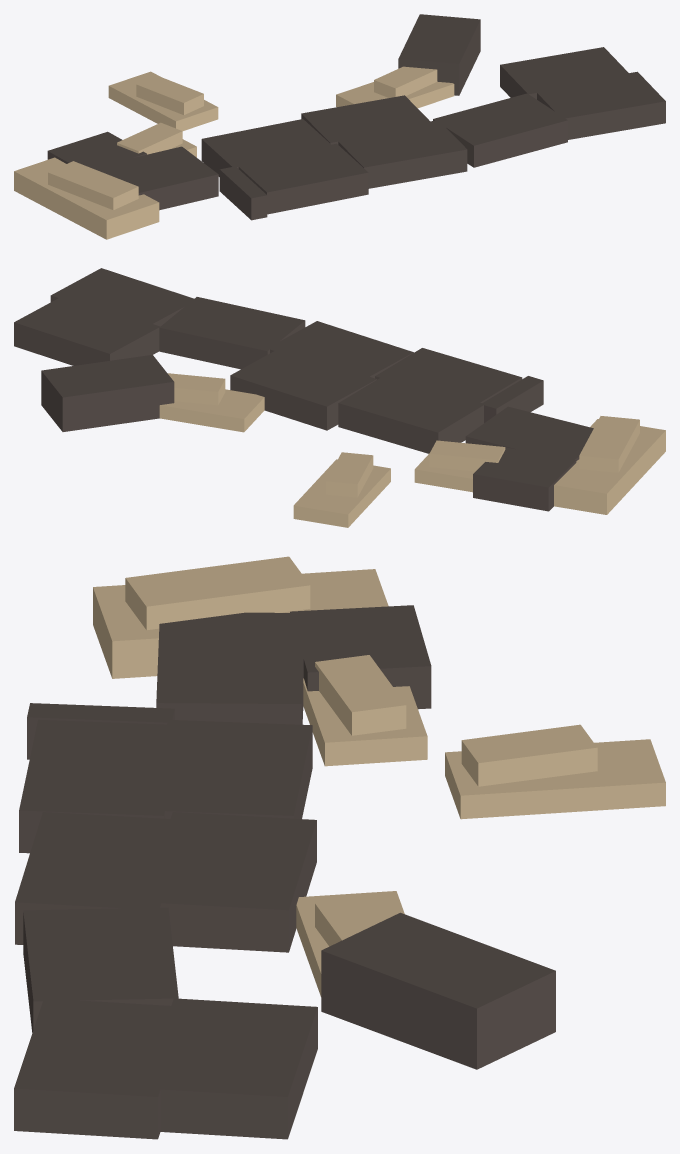
File: SM_PretilEsquinaPaso_v0_Recto_e3_Brecha_LOD0.fbx
3 renders of one model, top to bottom at view 1: azimuth 30°, elevation 25°; view 2: azimuth 150°, elevation 25°; view 3: azimuth 270°, elevation 25°, orthographic. The views are drawn at different scales.
Parts seen in each view (by area): view 1: SM_pretil_azotea_v43_LOD0; view 2: SM_pretil_azotea_v43_LOD0; view 3: SM_pretil_azotea_v43_LOD0.
Part boxes in pixels (bbox=[...]): SM_pretil_azotea_v43_LOD0: bbox=[14, 14, 665, 239]; SM_pretil_azotea_v43_LOD0: bbox=[14, 268, 665, 527]; SM_pretil_azotea_v43_LOD0: bbox=[14, 556, 665, 1139].
Size of the model in its own units: 4.85 by 0.26 by 2.51.
